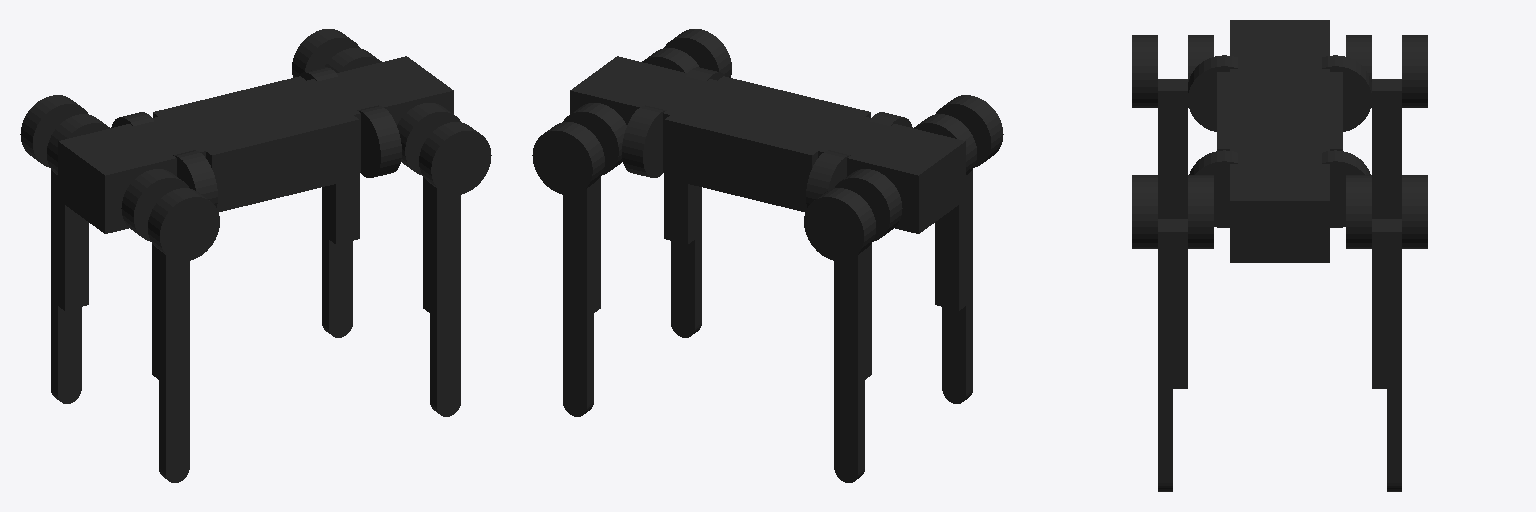
--- Facts derived from the render (not from the file) ---
3 views of the same robot in one strip: view 1: azimuth 30°, elevation 25°; view 2: azimuth 150°, elevation 25°; view 3: azimuth 270°, elevation 25° (orthographic).
Robot: IdefX — 26 links, 25 joints (12 revolute, 13 fixed); root link trunk; default pose: every joint at zero.
Visible links, largest first — view 1: trunk, trunk_appendix0, FR_arm, BR_third_motor, FR_third_motor, BR_arm, BL_arm, FR_forearm, BR_forearm, BL_forearm, FL_forearm, FR_first_motor (+8 smaller); view 2: trunk_appendix0, trunk, FL_arm, BL_arm, BL_third_motor, FL_third_motor, BR_arm, BL_forearm, FL_forearm, FR_forearm, FL_first_motor, BR_forearm (+8 smaller); view 3: trunk_appendix0, FR_arm, FL_arm, trunk, BL_arm, BR_arm, BL_first_motor, BR_first_motor, FL_clavicle, FL_third_motor, FR_clavicle, FR_third_motor (+8 smaller).
Link boxes in pixels (box(x1,y1,x2,y2)): trunk: box(153, 76, 358, 212); trunk_appendix0: box(58, 56, 453, 233); FR_arm: box(423, 177, 460, 317); BR_third_motor: box(148, 188, 219, 261); FR_third_motor: box(419, 122, 491, 194); BR_arm: box(152, 244, 189, 384); BL_arm: box(51, 170, 88, 310); FR_forearm: box(430, 275, 460, 406); BR_forearm: box(159, 341, 189, 472); BL_forearm: box(51, 263, 81, 393); FL_forearm: box(322, 197, 352, 327); FR_first_motor: box(357, 105, 401, 177); trunk_appendix0: box(570, 56, 965, 233); trunk: box(665, 76, 870, 212); FL_arm: box(563, 177, 600, 317); BL_arm: box(834, 244, 871, 384); BL_third_motor: box(804, 188, 875, 261); FL_third_motor: box(532, 122, 604, 194); BR_arm: box(935, 170, 972, 310); BL_forearm: box(834, 341, 864, 472); FL_forearm: box(563, 275, 593, 406); FR_forearm: box(671, 199, 701, 327); FL_first_motor: box(622, 105, 666, 177); BR_forearm: box(942, 264, 972, 393); trunk_appendix0: box(1230, 20, 1329, 262); FR_arm: box(1158, 219, 1187, 388); FL_arm: box(1372, 219, 1401, 388); trunk: box(1217, 72, 1342, 150); BL_arm: box(1372, 79, 1401, 218); BR_arm: box(1158, 79, 1187, 218); BL_first_motor: box(1322, 55, 1371, 131); BR_first_motor: box(1188, 55, 1237, 131); FL_clavicle: box(1346, 175, 1371, 248); FL_third_motor: box(1402, 175, 1427, 248); FR_clavicle: box(1188, 175, 1213, 248); FR_third_motor: box(1132, 175, 1157, 248).
Bounding box of the posed robot: 0.578 × 0.4 × 0.466 m (x, y, z).
Geometry: primitives only (box / cylinder / sphere), no mesh files.

robot.urdf — IdefX:
<?xml version="1.0" ?>
<robot name="IdefX">
	<material name="black">
		<color rgba="0.0 0.0 0.0 1.0"/>
	</material>
	<material name="blue">
		<color rgba="0.0 0.0 0.8 1.0"/>
	</material>
	<material name="green">
		<color rgba="0.0 0.8 0.0 1.0"/>
	</material>
	<material name="grey">
		<color rgba="0.2 0.2 0.2 1.0"/>
	</material>
	<material name="silver">
		<color rgba="0.913725490196 0.913725490196 0.847058823529 1.0"/>
	</material>
	<material name="orange">
		<color rgba="1.0 0.423529411765 0.0392156862745 1.0"/>
	</material>
	<material name="brown">
		<color rgba="0.870588235294 0.811764705882 0.764705882353 1.0"/>
	</material>
	<material name="red">
		<color rgba="0.8 0.0 0.0 1.0"/>
	</material>
	<material name="white">
		<color rgba="1.0 1.0 1.0 1.0"/>
	</material>
	<link name="trunk">
		<visual>
			<origin xyz="0 0 0" rpy="0 0 0"/>
			<geometry>
				<box size="0.245 0.17 0.093"/>
			</geometry>
			<material name="grey"/>
		</visual>
		<collision>
			<origin xyz="0 0 0" rpy="0 0 0"/>
			<geometry>
				<box size="0.245 0.17 0.093"/>
			</geometry>
			<material name="">
				<contact name="default_material"/>
			</material>
		</collision>
		<inertial>
			<origin xyz="0 0 0" rpy="0 0 0"/>
			<mass value="5.000000000000001"/>
			<inertia ixx="0.015645416666666672" ixy="0" ixz="0" iyy="0.02861416666666667" iyz="0" izz="0.03705208333333334"/>
		</inertial>
	</link>
	<joint name="trunk_appendix0_joint" type="fixed">
		<origin rpy="0 0 0" xyz="0 0 0"/>
		<parent link="trunk"/>
		<child link="trunk_appendix0"/>
		<axis xyz="0 0 0"/>
		<dynamics damping="0" friction="0"/>
		<limit effort="1000"/>
	</joint>
	<link name="trunk_appendix0">
		<visual>
			<origin xyz="0 0 0" rpy="0 0 0"/>
			<geometry>
				<box size="0.578 0.135 0.093"/>
			</geometry>
			<material name="grey"/>
		</visual>
		<collision>
			<origin xyz="0 0 0" rpy="0 0 0"/>
			<geometry>
				<box size="0.578 0.135 0.093"/>
			</geometry>
			<material name="">
				<contact name="default_material"/>
			</material>
		</collision>
		<inertial>
			<origin xyz="0 0 0" rpy="0 0 0"/>
			<mass value="2.5000000000000004"/>
			<inertia ixx="0.005598750000000001" ixy="0" ixz="0" iyy="0.07140270833333334" iyz="0" izz="0.07339770833333333"/>
		</inertial>
	</link>
	<joint name="FL_first_motor_joint" type="fixed">
		<origin rpy="0 0 0" xyz="0.15250000000000002 0.075 0.0"/>
		<parent link="trunk"/>
		<child link="FL_first_motor"/>
		<axis xyz="0 0 0"/>
		<dynamics damping="0" friction="0"/>
		<limit effort="1000"/>
	</joint>
	<link name="FL_first_motor">
		<visual>
			<origin xyz="0 0 0" rpy="0 1.5707963267948966 0"/>
			<geometry>
				<cylinder length="0.035" radius="0.05"/>
			</geometry>
			<material name="grey"/>
		</visual>
		<collision>
			<origin xyz="0 0 0" rpy="0 1.5707963267948966 0"/>
			<geometry>
				<cylinder length="0.035" radius="0.05"/>
			</geometry>
			<material name="">
				<contact name="FL_leg_material"/>
			</material>
		</collision>
		<inertial>
			<origin xyz="0 0 0" rpy="0 1.5707963267948966 0"/>
			<mass value="0.7"/>
			<inertia ixx="0.0005089583333333334" ixy="0" ixz="0" iyy="0.0005089583333333334" iyz="0" izz="0.0008749999999999999"/>
		</inertial>
	</link>
	<joint name="FL_clavicle_joint" type="revolute">
		<origin rpy="0 0 0" xyz="0.225 0.075 -0.0"/>
		<parent link="trunk"/>
		<child link="FL_clavicle"/>
		<axis xyz="1 0 0"/>
		<dynamics damping="0" friction="0"/>
		<limit effort="11"/>
	</joint>
	<link name="FL_clavicle">
		<visual>
			<origin xyz="0 0.0325 0" rpy="1.5707963267948966 0 0"/>
			<geometry>
				<cylinder length="0.035" radius="0.05"/>
			</geometry>
			<material name="grey"/>
		</visual>
		<collision>
			<origin xyz="0 0.0325 0" rpy="1.5707963267948966 0 0"/>
			<geometry>
				<cylinder length="0.035" radius="0.05"/>
			</geometry>
			<material name="">
				<contact name="FL_leg_material"/>
			</material>
		</collision>
		<inertial>
			<origin xyz="0 0.0325 0" rpy="1.5707963267948966 0 0"/>
			<mass value="0.7"/>
			<inertia ixx="0.0005089583333333334" ixy="0" ixz="0" iyy="0.0005089583333333334" iyz="0" izz="0.0008749999999999999"/>
		</inertial>
	</link>
	<joint name="FL_arm_joint" type="revolute">
		<origin rpy="0 0 0" xyz="0 0.07 0"/>
		<parent link="FL_clavicle"/>
		<child link="FL_arm"/>
		<axis xyz="0 1 0"/>
		<dynamics damping="0" friction="0"/>
		<limit effort="11"/>
	</joint>
	<link name="FL_arm">
		<visual>
			<origin xyz="0 0 -0.138" rpy="0 0 0"/>
			<geometry>
				<box size="0.04 0.04 0.23600000000000002"/>
			</geometry>
			<material name="grey"/>
		</visual>
		<collision>
			<origin xyz="0 0 -0.138" rpy="0 0 0"/>
			<geometry>
				<box size="0.04 0.04 0.23600000000000002"/>
			</geometry>
			<material name="">
				<contact name="FL_leg_material"/>
			</material>
		</collision>
		<inertial>
			<origin xyz="0 0 -0.138" rpy="0 0 0"/>
			<mass value="0.1"/>
			<inertia ixx="0.0004774666666666667" ixy="0" ixz="0" iyy="0.0004774666666666667" iyz="0" izz="2.6666666666666667e-05"/>
		</inertial>
	</link>
	<joint name="FL_third_motor_joint" type="fixed">
		<origin rpy="0 0 0" xyz="0.0 0.037500000000000006 0.0"/>
		<parent link="FL_arm"/>
		<child link="FL_third_motor"/>
		<axis xyz="0 0 0"/>
		<dynamics damping="0" friction="0"/>
		<limit effort="1000"/>
	</joint>
	<link name="FL_third_motor">
		<visual>
			<origin xyz="0 0 0" rpy="1.5707963267948966 0 0"/>
			<geometry>
				<cylinder length="0.035" radius="0.05"/>
			</geometry>
			<material name="grey"/>
		</visual>
		<collision>
			<origin xyz="0 0 0" rpy="1.5707963267948966 0 0"/>
			<geometry>
				<cylinder length="0.035" radius="0.05"/>
			</geometry>
			<material name="">
				<contact name="FL_leg_material"/>
			</material>
		</collision>
		<inertial>
			<origin xyz="0 0 0" rpy="1.5707963267948966 0 0"/>
			<mass value="0.7"/>
			<inertia ixx="0.0005089583333333334" ixy="0" ixz="0" iyy="0.0005089583333333334" iyz="0" izz="0.0008749999999999999"/>
		</inertial>
	</link>
	<joint name="FL_forearm_joint" type="revolute">
		<origin rpy="0 0 0" xyz="0 0.01 -0.196"/>
		<parent link="FL_arm"/>
		<child link="FL_forearm"/>
		<axis xyz="0 1 0"/>
		<dynamics damping="0" friction="0"/>
		<limit effort="8.8"/>
	</joint>
	<link name="FL_forearm">
		<visual>
			<origin xyz="0 0 -0.1" rpy="0 0 0"/>
			<geometry>
				<box size="0.04 0.02 0.2"/>
			</geometry>
			<material name="grey"/>
		</visual>
		<collision>
			<origin xyz="0 0 -0.1" rpy="0 0 0"/>
			<geometry>
				<box size="0.04 0.02 0.2"/>
			</geometry>
			<material name="">
				<contact name="FL_leg_material"/>
			</material>
		</collision>
		<inertial>
			<origin xyz="0 0 -0.1" rpy="0 0 0"/>
			<mass value="0.1"/>
			<inertia ixx="0.0003366666666666667" ixy="0" ixz="0" iyy="0.0003466666666666667" iyz="0" izz="1.6666666666666667e-05"/>
		</inertial>
	</link>
	<joint name="FL_foot_joint" type="fixed">
		<origin rpy="0 0 0" xyz="0 0 -0.2"/>
		<parent link="FL_forearm"/>
		<child link="FL_foot"/>
		<axis xyz="0 1 0"/>
		<dynamics damping="0" friction="0"/>
		<limit effort="1000"/>
	</joint>
	<link name="FL_foot">
		<visual>
			<origin xyz="0 0 0" rpy="1.5707963267948966 0 0"/>
			<geometry>
				<cylinder length="0.02" radius="0.02"/>
			</geometry>
			<material name="grey"/>
		</visual>
		<collision>
			<origin xyz="0 0 0" rpy="1.5707963267948966 0 0"/>
			<geometry>
				<cylinder length="0.02" radius="0.02"/>
			</geometry>
			<material name="">
				<contact name="FL_leg_material"/>
			</material>
		</collision>
		<inertial>
			<origin xyz="0 0 0" rpy="1.5707963267948966 0 0"/>
			<mass value="0.01"/>
			<inertia ixx="1.3333333333333332e-06" ixy="0" ixz="0" iyy="1.3333333333333332e-06" iyz="0" izz="2.0000000000000003e-06"/>
		</inertial>
	</link>
	<joint name="FR_first_motor_joint" type="fixed">
		<origin rpy="0 0 0" xyz="0.15250000000000002 -0.075 0.0"/>
		<parent link="trunk"/>
		<child link="FR_first_motor"/>
		<axis xyz="0 0 0"/>
		<dynamics damping="0" friction="0"/>
		<limit effort="1000"/>
	</joint>
	<link name="FR_first_motor">
		<visual>
			<origin xyz="0 0 0" rpy="0 1.5707963267948966 0"/>
			<geometry>
				<cylinder length="0.035" radius="0.05"/>
			</geometry>
			<material name="grey"/>
		</visual>
		<collision>
			<origin xyz="0 0 0" rpy="0 1.5707963267948966 0"/>
			<geometry>
				<cylinder length="0.035" radius="0.05"/>
			</geometry>
			<material name="">
				<contact name="FR_leg_material"/>
			</material>
		</collision>
		<inertial>
			<origin xyz="0 0 0" rpy="0 1.5707963267948966 0"/>
			<mass value="0.7"/>
			<inertia ixx="0.0005089583333333334" ixy="0" ixz="0" iyy="0.0005089583333333334" iyz="0" izz="0.0008749999999999999"/>
		</inertial>
	</link>
	<joint name="FR_clavicle_joint" type="revolute">
		<origin rpy="0 0 0" xyz="0.225 -0.075 -0.0"/>
		<parent link="trunk"/>
		<child link="FR_clavicle"/>
		<axis xyz="1 0 0"/>
		<dynamics damping="0" friction="0"/>
		<limit effort="11"/>
	</joint>
	<link name="FR_clavicle">
		<visual>
			<origin xyz="0 -0.0325 0" rpy="1.5707963267948966 0 0"/>
			<geometry>
				<cylinder length="0.035" radius="0.05"/>
			</geometry>
			<material name="grey"/>
		</visual>
		<collision>
			<origin xyz="0 -0.0325 0" rpy="1.5707963267948966 0 0"/>
			<geometry>
				<cylinder length="0.035" radius="0.05"/>
			</geometry>
			<material name="">
				<contact name="FR_leg_material"/>
			</material>
		</collision>
		<inertial>
			<origin xyz="0 -0.0325 0" rpy="1.5707963267948966 0 0"/>
			<mass value="0.7"/>
			<inertia ixx="0.0005089583333333334" ixy="0" ixz="0" iyy="0.0005089583333333334" iyz="0" izz="0.0008749999999999999"/>
		</inertial>
	</link>
	<joint name="FR_arm_joint" type="revolute">
		<origin rpy="0 0 0" xyz="0 -0.07 0"/>
		<parent link="FR_clavicle"/>
		<child link="FR_arm"/>
		<axis xyz="0 1 0"/>
		<dynamics damping="0" friction="0"/>
		<limit effort="11"/>
	</joint>
	<link name="FR_arm">
		<visual>
			<origin xyz="0 0 -0.138" rpy="0 0 0"/>
			<geometry>
				<box size="0.04 0.04 0.23600000000000002"/>
			</geometry>
			<material name="grey"/>
		</visual>
		<collision>
			<origin xyz="0 0 -0.138" rpy="0 0 0"/>
			<geometry>
				<box size="0.04 0.04 0.23600000000000002"/>
			</geometry>
			<material name="">
				<contact name="FR_leg_material"/>
			</material>
		</collision>
		<inertial>
			<origin xyz="0 0 -0.138" rpy="0 0 0"/>
			<mass value="0.1"/>
			<inertia ixx="0.0004774666666666667" ixy="0" ixz="0" iyy="0.0004774666666666667" iyz="0" izz="2.6666666666666667e-05"/>
		</inertial>
	</link>
	<joint name="FR_third_motor_joint" type="fixed">
		<origin rpy="0 0 0" xyz="0.0 -0.037500000000000006 0.0"/>
		<parent link="FR_arm"/>
		<child link="FR_third_motor"/>
		<axis xyz="0 0 0"/>
		<dynamics damping="0" friction="0"/>
		<limit effort="1000"/>
	</joint>
	<link name="FR_third_motor">
		<visual>
			<origin xyz="0 0 0" rpy="1.5707963267948966 0 0"/>
			<geometry>
				<cylinder length="0.035" radius="0.05"/>
			</geometry>
			<material name="grey"/>
		</visual>
		<collision>
			<origin xyz="0 0 0" rpy="1.5707963267948966 0 0"/>
			<geometry>
				<cylinder length="0.035" radius="0.05"/>
			</geometry>
			<material name="">
				<contact name="FR_leg_material"/>
			</material>
		</collision>
		<inertial>
			<origin xyz="0 0 0" rpy="1.5707963267948966 0 0"/>
			<mass value="0.7"/>
			<inertia ixx="0.0005089583333333334" ixy="0" ixz="0" iyy="0.0005089583333333334" iyz="0" izz="0.0008749999999999999"/>
		</inertial>
	</link>
	<joint name="FR_forearm_joint" type="revolute">
		<origin rpy="0 0 0" xyz="0 -0.01 -0.196"/>
		<parent link="FR_arm"/>
		<child link="FR_forearm"/>
		<axis xyz="0 1 0"/>
		<dynamics damping="0" friction="0"/>
		<limit effort="8.8"/>
	</joint>
	<link name="FR_forearm">
		<visual>
			<origin xyz="0 0 -0.1" rpy="0 0 0"/>
			<geometry>
				<box size="0.04 0.02 0.2"/>
			</geometry>
			<material name="grey"/>
		</visual>
		<collision>
			<origin xyz="0 0 -0.1" rpy="0 0 0"/>
			<geometry>
				<box size="0.04 0.02 0.2"/>
			</geometry>
			<material name="">
				<contact name="FR_leg_material"/>
			</material>
		</collision>
		<inertial>
			<origin xyz="0 0 -0.1" rpy="0 0 0"/>
			<mass value="0.1"/>
			<inertia ixx="0.0003366666666666667" ixy="0" ixz="0" iyy="0.0003466666666666667" iyz="0" izz="1.6666666666666667e-05"/>
		</inertial>
	</link>
	<joint name="FR_foot_joint" type="fixed">
		<origin rpy="0 0 0" xyz="0 0 -0.2"/>
		<parent link="FR_forearm"/>
		<child link="FR_foot"/>
		<axis xyz="0 1 0"/>
		<dynamics damping="0" friction="0"/>
		<limit effort="1000"/>
	</joint>
	<link name="FR_foot">
		<visual>
			<origin xyz="0 0 0" rpy="1.5707963267948966 0 0"/>
			<geometry>
				<cylinder length="0.02" radius="0.02"/>
			</geometry>
			<material name="grey"/>
		</visual>
		<collision>
			<origin xyz="0 0 0" rpy="1.5707963267948966 0 0"/>
			<geometry>
				<cylinder length="0.02" radius="0.02"/>
			</geometry>
			<material name="">
				<contact name="FR_leg_material"/>
			</material>
		</collision>
		<inertial>
			<origin xyz="0 0 0" rpy="1.5707963267948966 0 0"/>
			<mass value="0.01"/>
			<inertia ixx="1.3333333333333332e-06" ixy="0" ixz="0" iyy="1.3333333333333332e-06" iyz="0" izz="2.0000000000000003e-06"/>
		</inertial>
	</link>
	<joint name="BL_first_motor_joint" type="fixed">
		<origin rpy="0 0 0" xyz="-0.15250000000000002 0.075 0.0"/>
		<parent link="trunk"/>
		<child link="BL_first_motor"/>
		<axis xyz="0 0 0"/>
		<dynamics damping="0" friction="0"/>
		<limit effort="1000"/>
	</joint>
	<link name="BL_first_motor">
		<visual>
			<origin xyz="0 0 0" rpy="0 1.5707963267948966 0"/>
			<geometry>
				<cylinder length="0.035" radius="0.05"/>
			</geometry>
			<material name="grey"/>
		</visual>
		<collision>
			<origin xyz="0 0 0" rpy="0 1.5707963267948966 0"/>
			<geometry>
				<cylinder length="0.035" radius="0.05"/>
			</geometry>
			<material name="">
				<contact name="BL_leg_material"/>
			</material>
		</collision>
		<inertial>
			<origin xyz="0 0 0" rpy="0 1.5707963267948966 0"/>
			<mass value="0.7"/>
			<inertia ixx="0.0005089583333333334" ixy="0" ixz="0" iyy="0.0005089583333333334" iyz="0" izz="0.0008749999999999999"/>
		</inertial>
	</link>
	<joint name="BL_clavicle_joint" type="revolute">
		<origin rpy="0 0 0" xyz="-0.225 0.075 -0.0"/>
		<parent link="trunk"/>
		<child link="BL_clavicle"/>
		<axis xyz="1 0 0"/>
		<dynamics damping="0" friction="0"/>
		<limit effort="11"/>
	</joint>
	<link name="BL_clavicle">
		<visual>
			<origin xyz="0 0.0325 0" rpy="1.5707963267948966 0 0"/>
			<geometry>
				<cylinder length="0.035" radius="0.05"/>
			</geometry>
			<material name="grey"/>
		</visual>
		<collision>
			<origin xyz="0 0.0325 0" rpy="1.5707963267948966 0 0"/>
			<geometry>
				<cylinder length="0.035" radius="0.05"/>
			</geometry>
			<material name="">
				<contact name="BL_leg_material"/>
			</material>
		</collision>
		<inertial>
			<origin xyz="0 0.0325 0" rpy="1.5707963267948966 0 0"/>
			<mass value="0.7"/>
			<inertia ixx="0.0005089583333333334" ixy="0" ixz="0" iyy="0.0005089583333333334" iyz="0" izz="0.0008749999999999999"/>
		</inertial>
	</link>
	<joint name="BL_arm_joint" type="revolute">
		<origin rpy="0 0 0" xyz="0 0.07 0"/>
		<parent link="BL_clavicle"/>
		<child link="BL_arm"/>
		<axis xyz="0 1 0"/>
		<dynamics damping="0" friction="0"/>
		<limit effort="11"/>
	</joint>
	<link name="BL_arm">
		<visual>
			<origin xyz="0 0 -0.138" rpy="0 0 0"/>
			<geometry>
				<box size="0.04 0.04 0.23600000000000002"/>
			</geometry>
			<material name="grey"/>
		</visual>
		<collision>
			<origin xyz="0 0 -0.138" rpy="0 0 0"/>
			<geometry>
				<box size="0.04 0.04 0.23600000000000002"/>
			</geometry>
			<material name="">
				<contact name="BL_leg_material"/>
			</material>
		</collision>
		<inertial>
			<origin xyz="0 0 -0.138" rpy="0 0 0"/>
			<mass value="0.1"/>
			<inertia ixx="0.0004774666666666667" ixy="0" ixz="0" iyy="0.0004774666666666667" iyz="0" izz="2.6666666666666667e-05"/>
		</inertial>
	</link>
	<joint name="BL_third_motor_joint" type="fixed">
		<origin rpy="0 0 0" xyz="0.0 0.037500000000000006 0.0"/>
		<parent link="BL_arm"/>
		<child link="BL_third_motor"/>
		<axis xyz="0 0 0"/>
		<dynamics damping="0" friction="0"/>
		<limit effort="1000"/>
	</joint>
	<link name="BL_third_motor">
		<visual>
			<origin xyz="0 0 0" rpy="1.5707963267948966 0 0"/>
			<geometry>
				<cylinder length="0.035" radius="0.05"/>
			</geometry>
			<material name="grey"/>
		</visual>
		<collision>
			<origin xyz="0 0 0" rpy="1.5707963267948966 0 0"/>
			<geometry>
				<cylinder length="0.035" radius="0.05"/>
			</geometry>
			<material name="">
				<contact name="BL_leg_material"/>
			</material>
		</collision>
		<inertial>
			<origin xyz="0 0 0" rpy="1.5707963267948966 0 0"/>
			<mass value="0.7"/>
			<inertia ixx="0.0005089583333333334" ixy="0" ixz="0" iyy="0.0005089583333333334" iyz="0" izz="0.0008749999999999999"/>
		</inertial>
	</link>
	<joint name="BL_forearm_joint" type="revolute">
		<origin rpy="0 0 0" xyz="0 0.01 -0.196"/>
		<parent link="BL_arm"/>
		<child link="BL_forearm"/>
		<axis xyz="0 1 0"/>
		<dynamics damping="0" friction="0"/>
		<limit effort="8.8"/>
	</joint>
	<link name="BL_forearm">
		<visual>
			<origin xyz="0 0 -0.1" rpy="0 0 0"/>
			<geometry>
				<box size="0.04 0.02 0.2"/>
			</geometry>
			<material name="grey"/>
		</visual>
		<collision>
			<origin xyz="0 0 -0.1" rpy="0 0 0"/>
			<geometry>
				<box size="0.04 0.02 0.2"/>
			</geometry>
			<material name="">
				<contact name="BL_leg_material"/>
			</material>
		</collision>
		<inertial>
			<origin xyz="0 0 -0.1" rpy="0 0 0"/>
			<mass value="0.1"/>
			<inertia ixx="0.0003366666666666667" ixy="0" ixz="0" iyy="0.0003466666666666667" iyz="0" izz="1.6666666666666667e-05"/>
		</inertial>
	</link>
	<joint name="BL_foot_joint" type="fixed">
		<origin rpy="0 0 0" xyz="0 0 -0.2"/>
		<parent link="BL_forearm"/>
		<child link="BL_foot"/>
		<axis xyz="0 1 0"/>
		<dynamics damping="0" friction="0"/>
		<limit effort="1000"/>
	</joint>
	<link name="BL_foot">
		<visual>
			<origin xyz="0 0 0" rpy="1.5707963267948966 0 0"/>
			<geometry>
				<cylinder length="0.02" radius="0.02"/>
			</geometry>
			<material name="grey"/>
		</visual>
		<collision>
			<origin xyz="0 0 0" rpy="1.5707963267948966 0 0"/>
			<geometry>
				<cylinder length="0.02" radius="0.02"/>
			</geometry>
			<material name="">
				<contact name="BL_leg_material"/>
			</material>
		</collision>
		<inertial>
			<origin xyz="0 0 0" rpy="1.5707963267948966 0 0"/>
			<mass value="0.01"/>
			<inertia ixx="1.3333333333333332e-06" ixy="0" ixz="0" iyy="1.3333333333333332e-06" iyz="0" izz="2.0000000000000003e-06"/>
		</inertial>
	</link>
	<joint name="BR_first_motor_joint" type="fixed">
		<origin rpy="0 0 0" xyz="-0.15250000000000002 -0.075 0.0"/>
		<parent link="trunk"/>
		<child link="BR_first_motor"/>
		<axis xyz="0 0 0"/>
		<dynamics damping="0" friction="0"/>
		<limit effort="1000"/>
	</joint>
	<link name="BR_first_motor">
		<visual>
			<origin xyz="0 0 0" rpy="0 1.5707963267948966 0"/>
			<geometry>
				<cylinder length="0.035" radius="0.05"/>
			</geometry>
			<material name="grey"/>
		</visual>
		<collision>
			<origin xyz="0 0 0" rpy="0 1.5707963267948966 0"/>
			<geometry>
				<cylinder length="0.035" radius="0.05"/>
			</geometry>
			<material name="">
				<contact name="BR_leg_material"/>
			</material>
		</collision>
		<inertial>
			<origin xyz="0 0 0" rpy="0 1.5707963267948966 0"/>
			<mass value="0.7"/>
			<inertia ixx="0.0005089583333333334" ixy="0" ixz="0" iyy="0.0005089583333333334" iyz="0" izz="0.0008749999999999999"/>
		</inertial>
	</link>
	<joint name="BR_clavicle_joint" type="revolute">
		<origin rpy="0 0 0" xyz="-0.225 -0.075 -0.0"/>
		<parent link="trunk"/>
		<child link="BR_clavicle"/>
		<axis xyz="1 0 0"/>
		<dynamics damping="0" friction="0"/>
		<limit effort="11"/>
	</joint>
	<link name="BR_clavicle">
		<visual>
			<origin xyz="0 -0.0325 0" rpy="1.5707963267948966 0 0"/>
			<geometry>
				<cylinder length="0.035" radius="0.05"/>
			</geometry>
			<material name="grey"/>
		</visual>
		<collision>
			<origin xyz="0 -0.0325 0" rpy="1.5707963267948966 0 0"/>
			<geometry>
				<cylinder length="0.035" radius="0.05"/>
			</geometry>
			<material name="">
				<contact name="BR_leg_material"/>
			</material>
		</collision>
		<inertial>
			<origin xyz="0 -0.0325 0" rpy="1.5707963267948966 0 0"/>
			<mass value="0.7"/>
			<inertia ixx="0.0005089583333333334" ixy="0" ixz="0" iyy="0.0005089583333333334" iyz="0" izz="0.0008749999999999999"/>
		</inertial>
	</link>
	<joint name="BR_arm_joint" type="revolute">
		<origin rpy="0 0 0" xyz="0 -0.07 0"/>
		<parent link="BR_clavicle"/>
		<child link="BR_arm"/>
		<axis xyz="0 1 0"/>
		<dynamics damping="0" friction="0"/>
		<limit effort="11"/>
	</joint>
	<link name="BR_arm">
		<visual>
			<origin xyz="0 0 -0.138" rpy="0 0 0"/>
			<geometry>
				<box size="0.04 0.04 0.23600000000000002"/>
			</geometry>
			<material name="grey"/>
		</visual>
		<collision>
			<origin xyz="0 0 -0.138" rpy="0 0 0"/>
			<geometry>
				<box size="0.04 0.04 0.23600000000000002"/>
			</geometry>
			<material name="">
				<contact name="BR_leg_material"/>
			</material>
		</collision>
		<inertial>
			<origin xyz="0 0 -0.138" rpy="0 0 0"/>
			<mass value="0.1"/>
			<inertia ixx="0.0004774666666666667" ixy="0" ixz="0" iyy="0.0004774666666666667" iyz="0" izz="2.6666666666666667e-05"/>
		</inertial>
	</link>
	<joint name="BR_third_motor_joint" type="fixed">
		<origin rpy="0 0 0" xyz="0.0 -0.037500000000000006 0.0"/>
		<parent link="BR_arm"/>
		<child link="BR_third_motor"/>
		<axis xyz="0 0 0"/>
		<dynamics damping="0" friction="0"/>
		<limit effort="1000"/>
	</joint>
	<link name="BR_third_motor">
		<visual>
			<origin xyz="0 0 0" rpy="1.5707963267948966 0 0"/>
			<geometry>
				<cylinder length="0.035" radius="0.05"/>
			</geometry>
			<material name="grey"/>
		</visual>
		<collision>
			<origin xyz="0 0 0" rpy="1.5707963267948966 0 0"/>
			<geometry>
				<cylinder length="0.035" radius="0.05"/>
			</geometry>
			<material name="">
				<contact name="BR_leg_material"/>
			</material>
		</collision>
		<inertial>
			<origin xyz="0 0 0" rpy="1.5707963267948966 0 0"/>
			<mass value="0.7"/>
			<inertia ixx="0.0005089583333333334" ixy="0" ixz="0" iyy="0.0005089583333333334" iyz="0" izz="0.0008749999999999999"/>
		</inertial>
	</link>
	<joint name="BR_forearm_joint" type="revolute">
		<origin rpy="0 0 0" xyz="0 -0.01 -0.196"/>
		<parent link="BR_arm"/>
		<child link="BR_forearm"/>
		<axis xyz="0 1 0"/>
		<dynamics damping="0" friction="0"/>
		<limit effort="8.8"/>
	</joint>
	<link name="BR_forearm">
		<visual>
			<origin xyz="0 0 -0.1" rpy="0 0 0"/>
			<geometry>
				<box size="0.04 0.02 0.2"/>
			</geometry>
			<material name="grey"/>
		</visual>
		<collision>
			<origin xyz="0 0 -0.1" rpy="0 0 0"/>
			<geometry>
				<box size="0.04 0.02 0.2"/>
			</geometry>
			<material name="">
				<contact name="BR_leg_material"/>
			</material>
		</collision>
		<inertial>
			<origin xyz="0 0 -0.1" rpy="0 0 0"/>
			<mass value="0.1"/>
			<inertia ixx="0.0003366666666666667" ixy="0" ixz="0" iyy="0.0003466666666666667" iyz="0" izz="1.6666666666666667e-05"/>
		</inertial>
	</link>
	<joint name="BR_foot_joint" type="fixed">
		<origin rpy="0 0 0" xyz="0 0 -0.2"/>
		<parent link="BR_forearm"/>
		<child link="BR_foot"/>
		<axis xyz="0 1 0"/>
		<dynamics damping="0" friction="0"/>
		<limit effort="1000"/>
	</joint>
	<link name="BR_foot">
		<visual>
			<origin xyz="0 0 0" rpy="1.5707963267948966 0 0"/>
			<geometry>
				<cylinder length="0.02" radius="0.02"/>
			</geometry>
			<material name="grey"/>
		</visual>
		<collision>
			<origin xyz="0 0 0" rpy="1.5707963267948966 0 0"/>
			<geometry>
				<cylinder length="0.02" radius="0.02"/>
			</geometry>
			<material name="">
				<contact name="BR_leg_material"/>
			</material>
		</collision>
		<inertial>
			<origin xyz="0 0 0" rpy="1.5707963267948966 0 0"/>
			<mass value="0.01"/>
			<inertia ixx="1.3333333333333332e-06" ixy="0" ixz="0" iyy="1.3333333333333332e-06" iyz="0" izz="2.0000000000000003e-06"/>
		</inertial>
	</link>
</robot>
